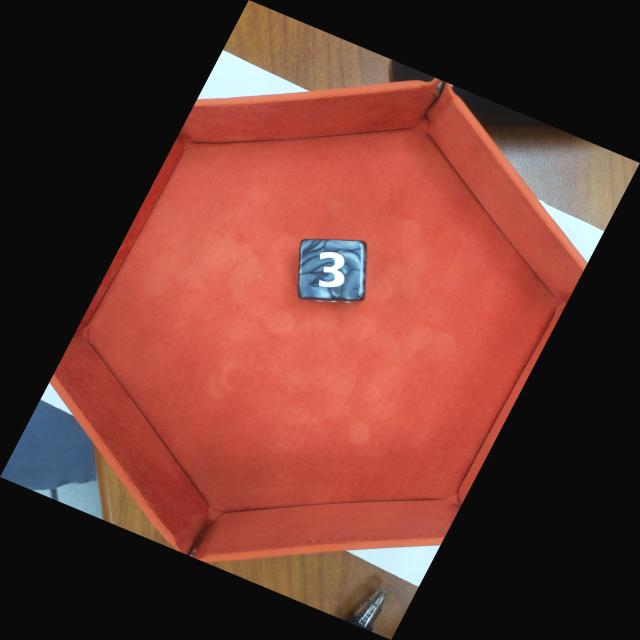dice: (301, 242, 368, 301)
